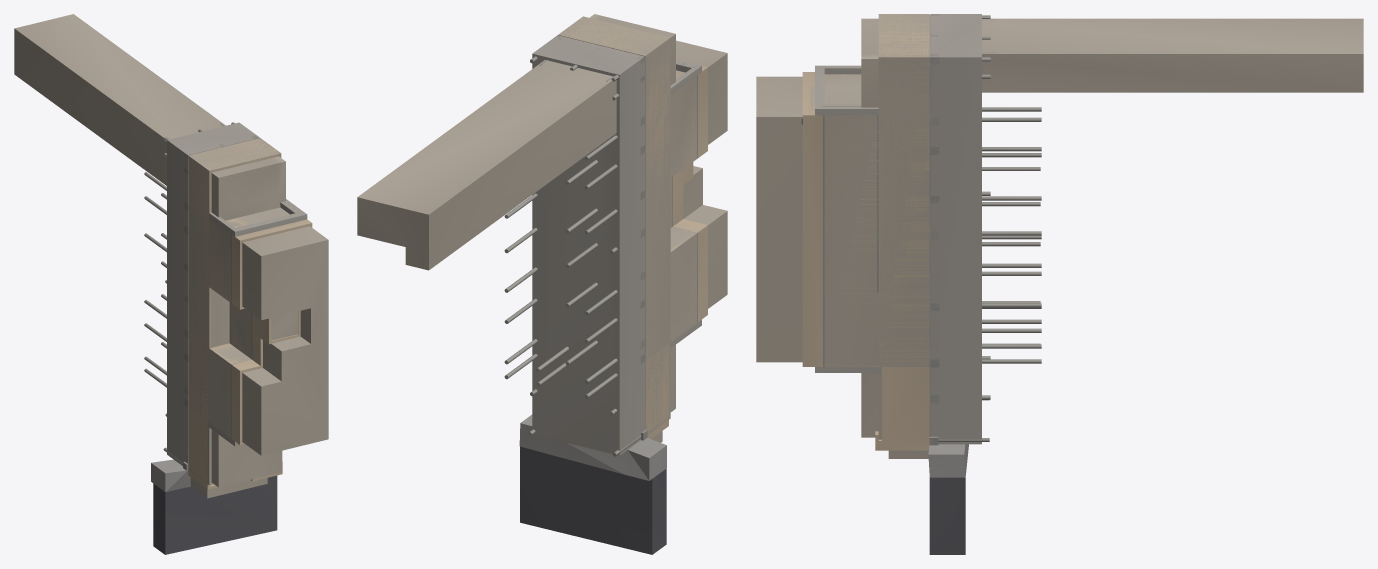
File: residencial_definitivo.glb
The picture shows the model from 3 angles, left to right: view 1: azimuth 30°, elevation 25°; view 2: azimuth 150°, elevation 25°; view 3: azimuth 270°, elevation 25°; orthographic projection. The views are drawn at different scales.
Parts seen in each view (by area): view 1: telhado_default, base_default, meio_default, base_road, base_concrete, base_sidewalk; view 2: base_default, telhado_default, meio_default, base_road, base_concrete, base_sidewalk; view 3: base_default, telhado_default, meio_default, base_concrete, base_road, base_sidewalk.
Boxes of the visible parts, x1,y1,x2,y2 form: telhado_default: (207, 199, 328, 455); base_default: (14, 14, 267, 498); meio_default: (188, 138, 285, 488); base_road: (153, 475, 277, 554); base_concrete: (144, 122, 259, 470); base_sidewalk: (151, 459, 190, 492); base_default: (357, 35, 668, 455); telhado_default: (670, 40, 727, 347); meio_default: (558, 14, 675, 434); base_road: (520, 446, 666, 554); base_concrete: (504, 35, 647, 456); base_sidewalk: (519, 414, 666, 480); base_default: (882, 14, 1363, 458); telhado_default: (756, 65, 881, 372); meio_default: (801, 14, 929, 450); base_concrete: (929, 14, 1041, 445); base_road: (929, 477, 965, 554); base_sidewalk: (928, 444, 968, 477).
Bounding box in the file's own units: 9.12 × 31.5 × 35.55.
